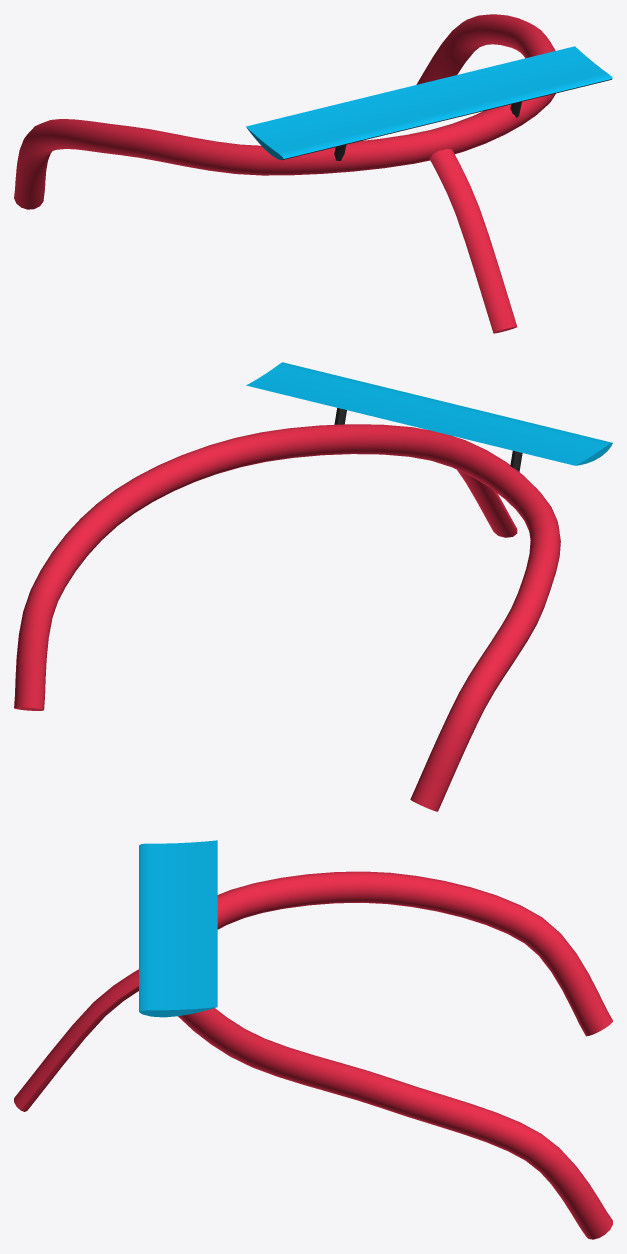
The model's file is airfoil.glb.
3 renders of one model, top to bottom at view 1: azimuth 30°, elevation 25°; view 2: azimuth 150°, elevation 25°; view 3: azimuth 270°, elevation 25°, orthographic. The views are drawn at different scales.
Parts seen in each view (by area): view 1: Halo_airfoil; view 2: Halo_airfoil; view 3: Halo_airfoil.
Part boxes in pixels (x1,y1,x2,y2): Halo_airfoil: (14,14,612,333); Halo_airfoil: (14,362,612,811); Halo_airfoil: (14,840,612,1239).
Size of the model in its own units: 0.8287 by 0.3554 by 0.9109.
